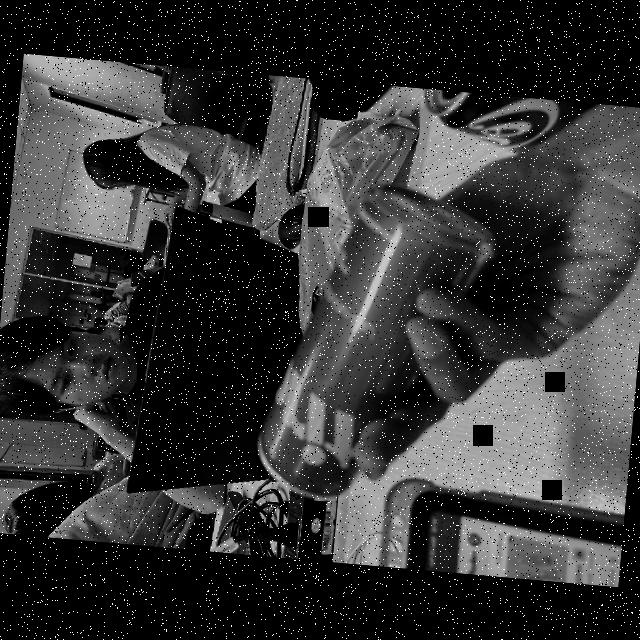can: (243, 178, 479, 514), (409, 88, 593, 156)
